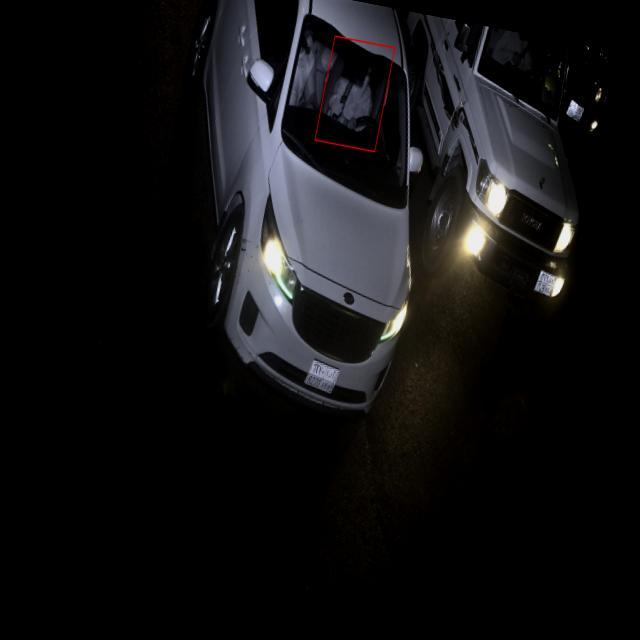windshield: (274, 12, 419, 208)
